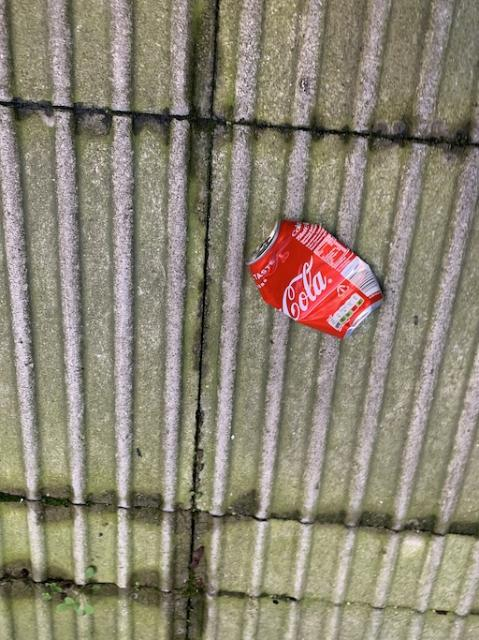metal: (247, 219, 381, 337)
